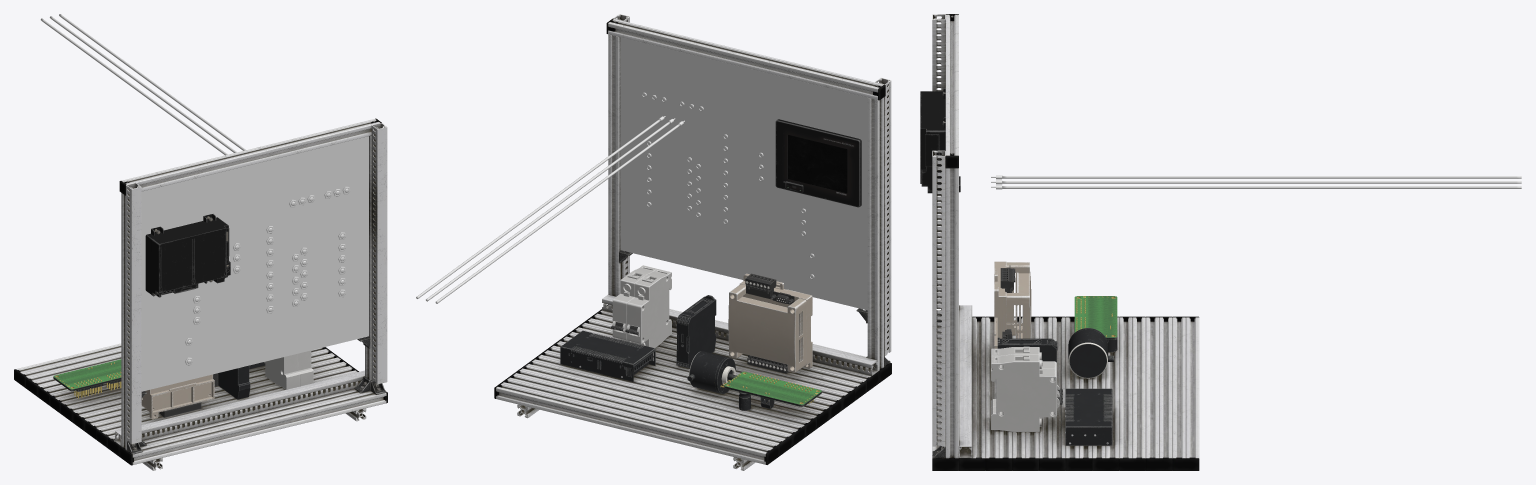
Rendered from 3d thaayf Tieens.fbx.
3 views of the same model, side by side, from view 1: azimuth 30°, elevation 25°; view 2: azimuth 150°, elevation 25°; view 3: azimuth 270°, elevation 25° (orthographic). The views are drawn at different scales.
Visible parts, largest first — view 1: Board, Board_Table, Board_Frame, Display, PC2, Rotor, Switch, PC1, Wire_Head_Black.001, Wire_Head_Yellow.001, Wire_Head_Red.001; view 2: Board, Board_Table, Board_Frame, PC2, Display, Switch, Rotor, CPU, PC1, Wire_Head_Black.001, Wire_Head_Red.001, Wire_Head_Yellow.001; view 3: Board_Table, Board_Frame, Switch, Rotor, PC2, CPU, Display, Wire_Head_Black.001, Wire_Head_Red.001, Wire_Head_Yellow.001, PC1.
Boxes of the visible parts, x1,y1,x2,y2 form: Board: (141, 136, 368, 391); Board_Table: (14, 343, 387, 470); Board_Frame: (119, 118, 387, 454); Display: (145, 214, 230, 297); PC2: (141, 373, 218, 419); Rotor: (53, 359, 121, 398); Switch: (263, 350, 313, 389); PC1: (218, 365, 250, 399); Wire_Head_Black.001: (59, 14, 245, 150); Wire_Head_Yellow.001: (49, 16, 236, 152); Wire_Head_Red.001: (40, 18, 227, 155); Board: (620, 37, 867, 310); Board_Table: (494, 294, 891, 470); Board_Frame: (606, 14, 891, 371); PC2: (728, 273, 812, 373); Display: (775, 119, 861, 207); Switch: (610, 265, 671, 347); Rotor: (687, 351, 821, 410); CPU: (560, 330, 655, 381); PC1: (676, 295, 716, 368); Wire_Head_Black.001: (416, 119, 660, 298); Wire_Head_Red.001: (435, 124, 680, 303); Wire_Head_Yellow.001: (426, 121, 670, 301); Board_Table: (932, 305, 1199, 470); Board_Frame: (932, 14, 958, 458); Switch: (991, 346, 1062, 431); Rotor: (1068, 296, 1117, 378); PC2: (994, 261, 1031, 348); CPU: (1065, 388, 1112, 445); Display: (920, 88, 960, 194); Wire_Head_Black.001: (1002, 186, 1521, 188); Wire_Head_Red.001: (1002, 176, 1521, 178); Wire_Head_Yellow.001: (1002, 181, 1521, 183); PC1: (997, 337, 1057, 362).
Size of the model in its own units: 50.6 by 54.05 by 90.11.
10 materials, 8 textured.
